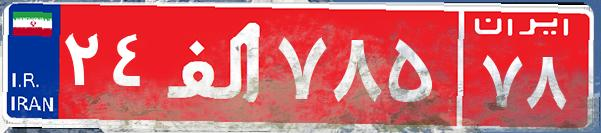2: (57, 26, 110, 107)
4: (110, 28, 158, 105)
5: (385, 28, 445, 110)
7: (273, 28, 330, 110), (475, 38, 525, 113)
8: (330, 28, 385, 110), (525, 38, 570, 115)
الف: (158, 15, 273, 115)
